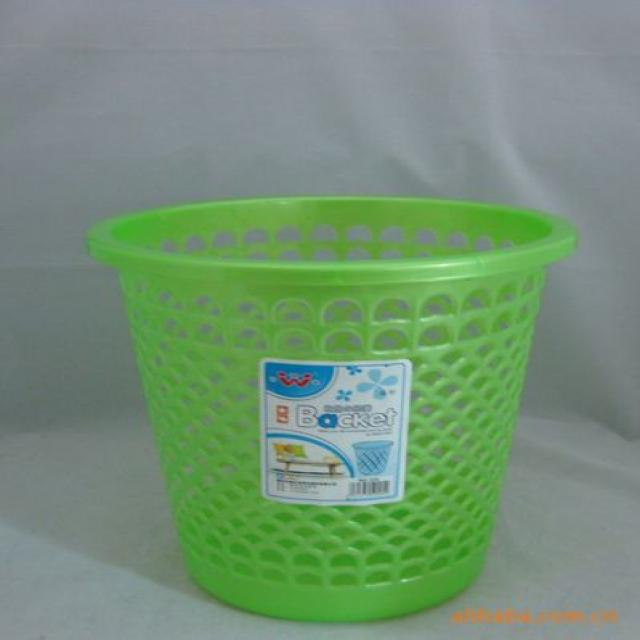Dustbin: (82, 192, 580, 626)
